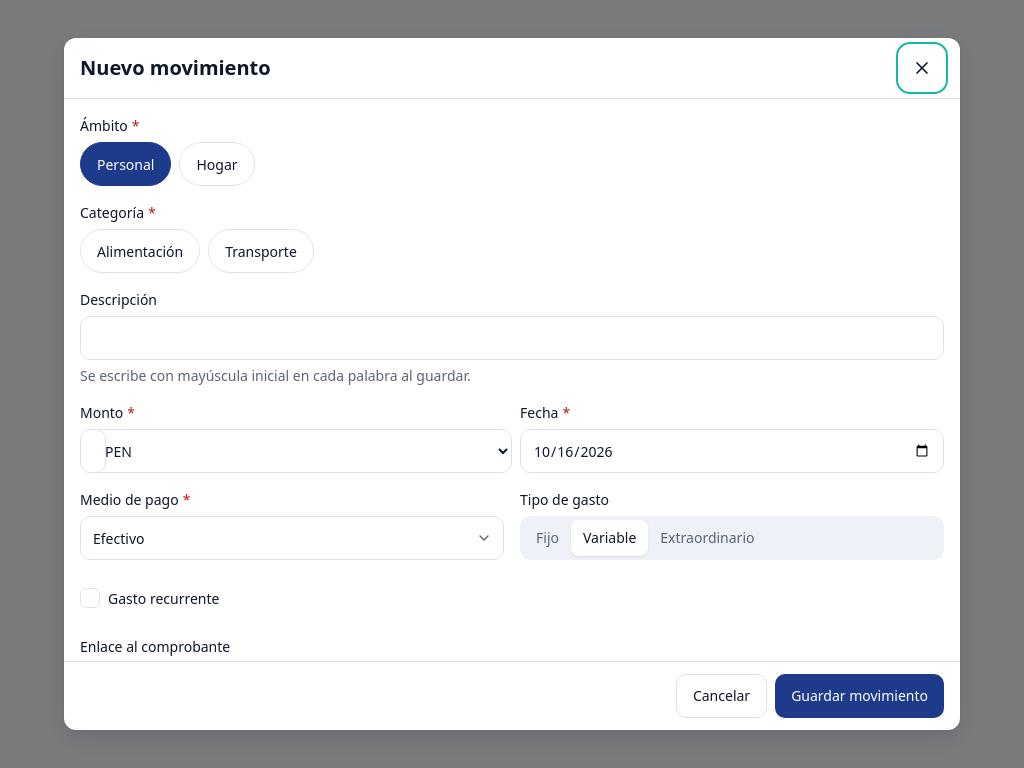
Scenario: FormMovimiento · clasificación › las categorías dependen del ámbito y las subcategorías de la categoría
The image size is (1024, 768).
Expected: the radio button labelled "Servicios" is not shown
Click the radio button labelled "Alimentación" at point(140, 251), box [80,229,200,273]
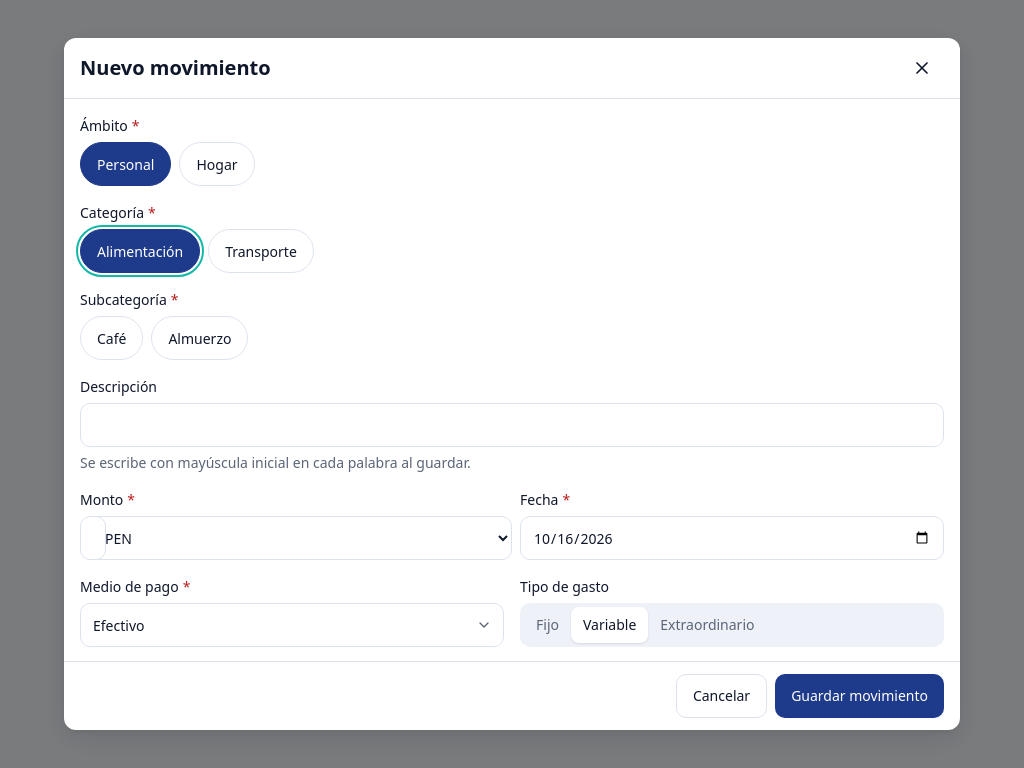
Result: the element named "Subcategoría" is shown at [80,316,248,360]
Result: the radio button labelled "Café" is shown at [80,316,143,360]
Click the radio button labelled "Hogar" at point(217, 164), box [180,142,255,186]
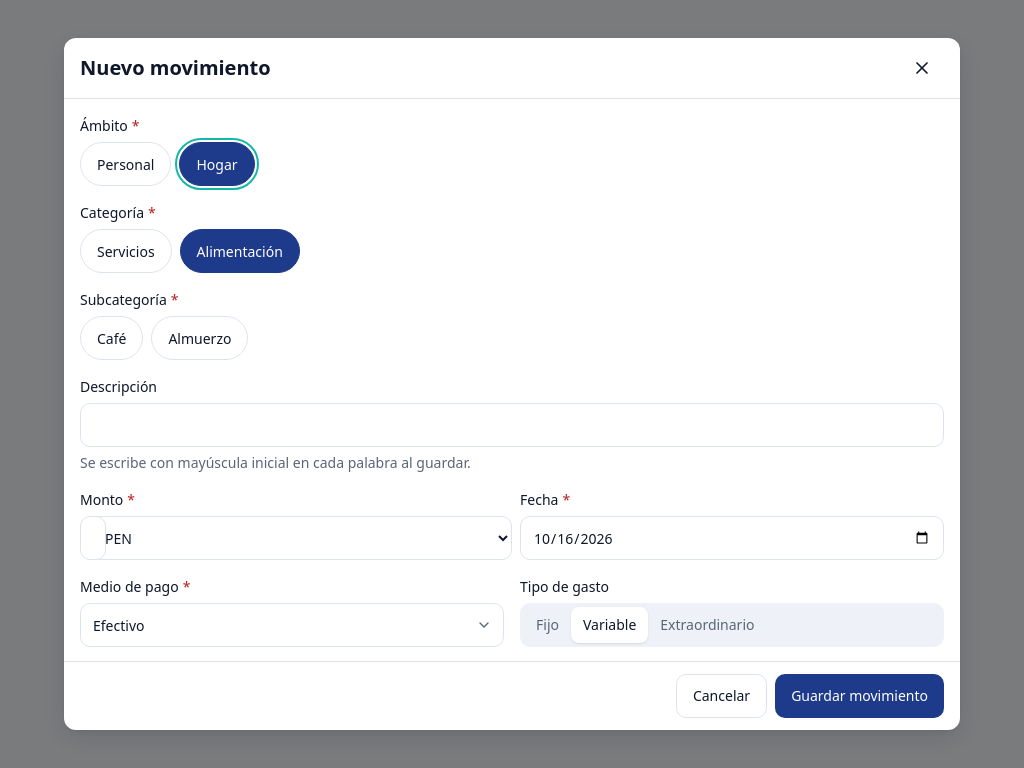
Result: the radio button labelled "Servicios" is shown at [80,229,172,273]
